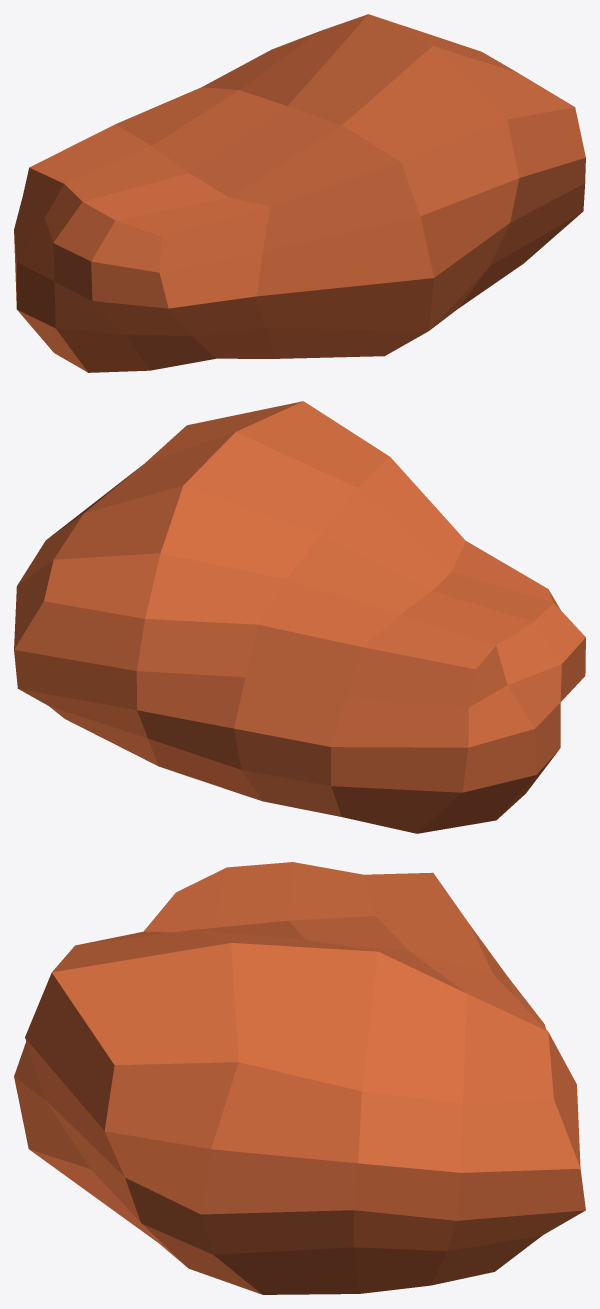
File: stone11.fbx
3 views of the same model, one above another, from view 1: azimuth 30°, elevation 25°; view 2: azimuth 150°, elevation 25°; view 3: azimuth 270°, elevation 25° (orthographic). The views are drawn at different scales.
Parts seen in each view (by area): view 1: stoneE; view 2: stoneE; view 3: stoneE.
Boxes of the visible parts, x1,y1,x2,y2 form: stoneE: (14,14,585,372); stoneE: (14,401,585,833); stoneE: (14,862,585,1294).
Size of the model in its own units: 353 by 182 by 276.
